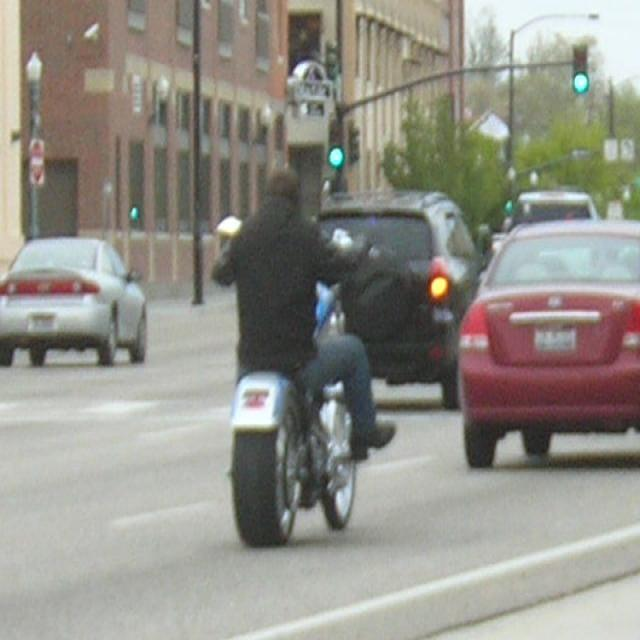motor: (228, 370, 361, 551)
